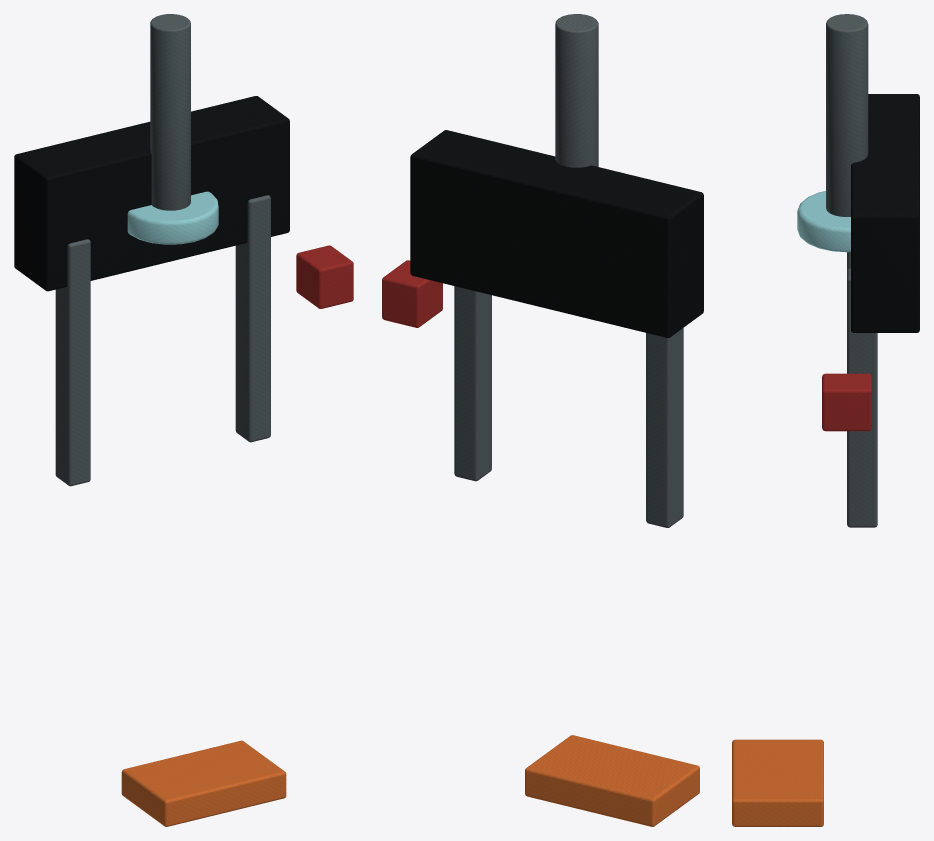
Rendered from ChemicalSafetyShower.glb.
3 renders of one model, left to right at view 1: azimuth 30°, elevation 25°; view 2: azimuth 150°, elevation 25°; view 3: azimuth 270°, elevation 25°, orthographic. The views are drawn at different scales.
Visible parts, largest first — view 1: ChemicalSafetyShower_Mesh; view 2: ChemicalSafetyShower_Mesh; view 3: ChemicalSafetyShower_Mesh.
Part boxes in pixels (left/top/right/bottom): ChemicalSafetyShower_Mesh: left=14, top=14, right=353, bottom=826; ChemicalSafetyShower_Mesh: left=382, top=14, right=703, bottom=826; ChemicalSafetyShower_Mesh: left=732, top=14, right=919, bottom=826.
Bounding box in the file's own units: 0.915 × 2.23 × 0.49.
Materials: 5 (5 with a texture image).
